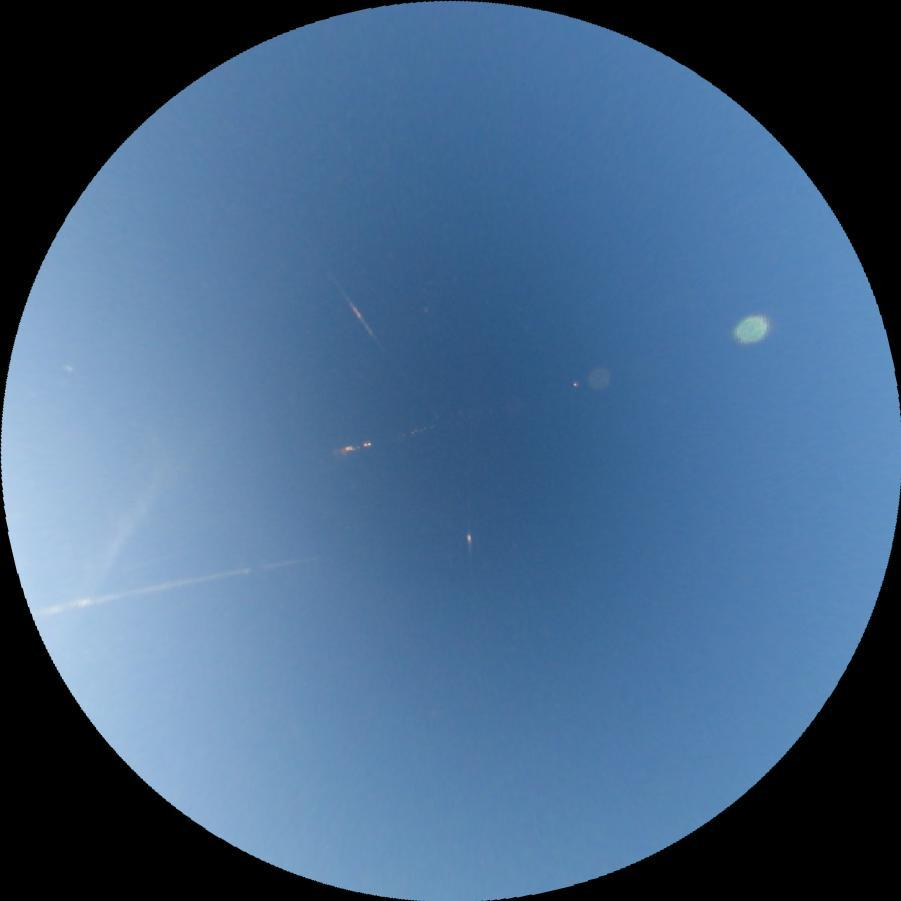parasite: (31, 550, 311, 618), (332, 278, 388, 357), (465, 531, 475, 565)
unknow: (35, 459, 169, 649)
